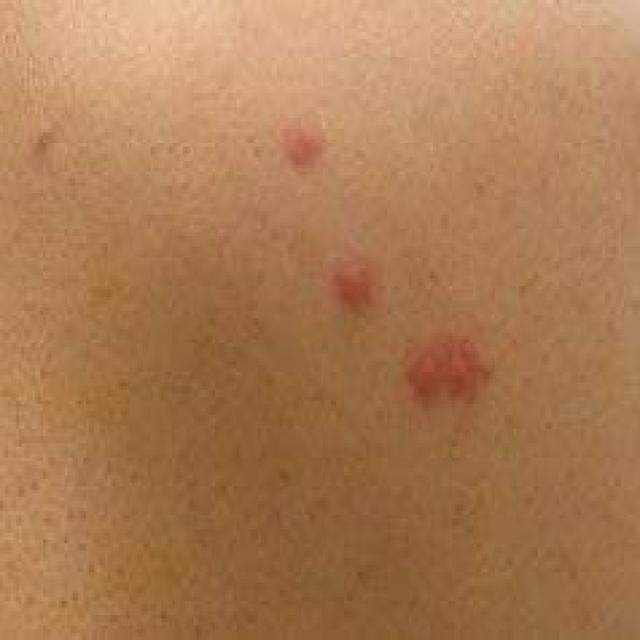kan emici bocekler: (413, 341, 489, 405), (279, 127, 324, 174), (329, 255, 365, 304)
